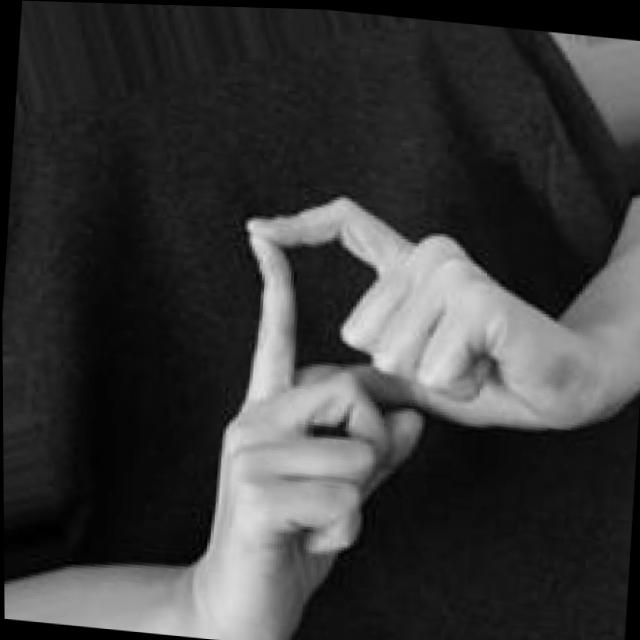D: (191, 182, 592, 640)
